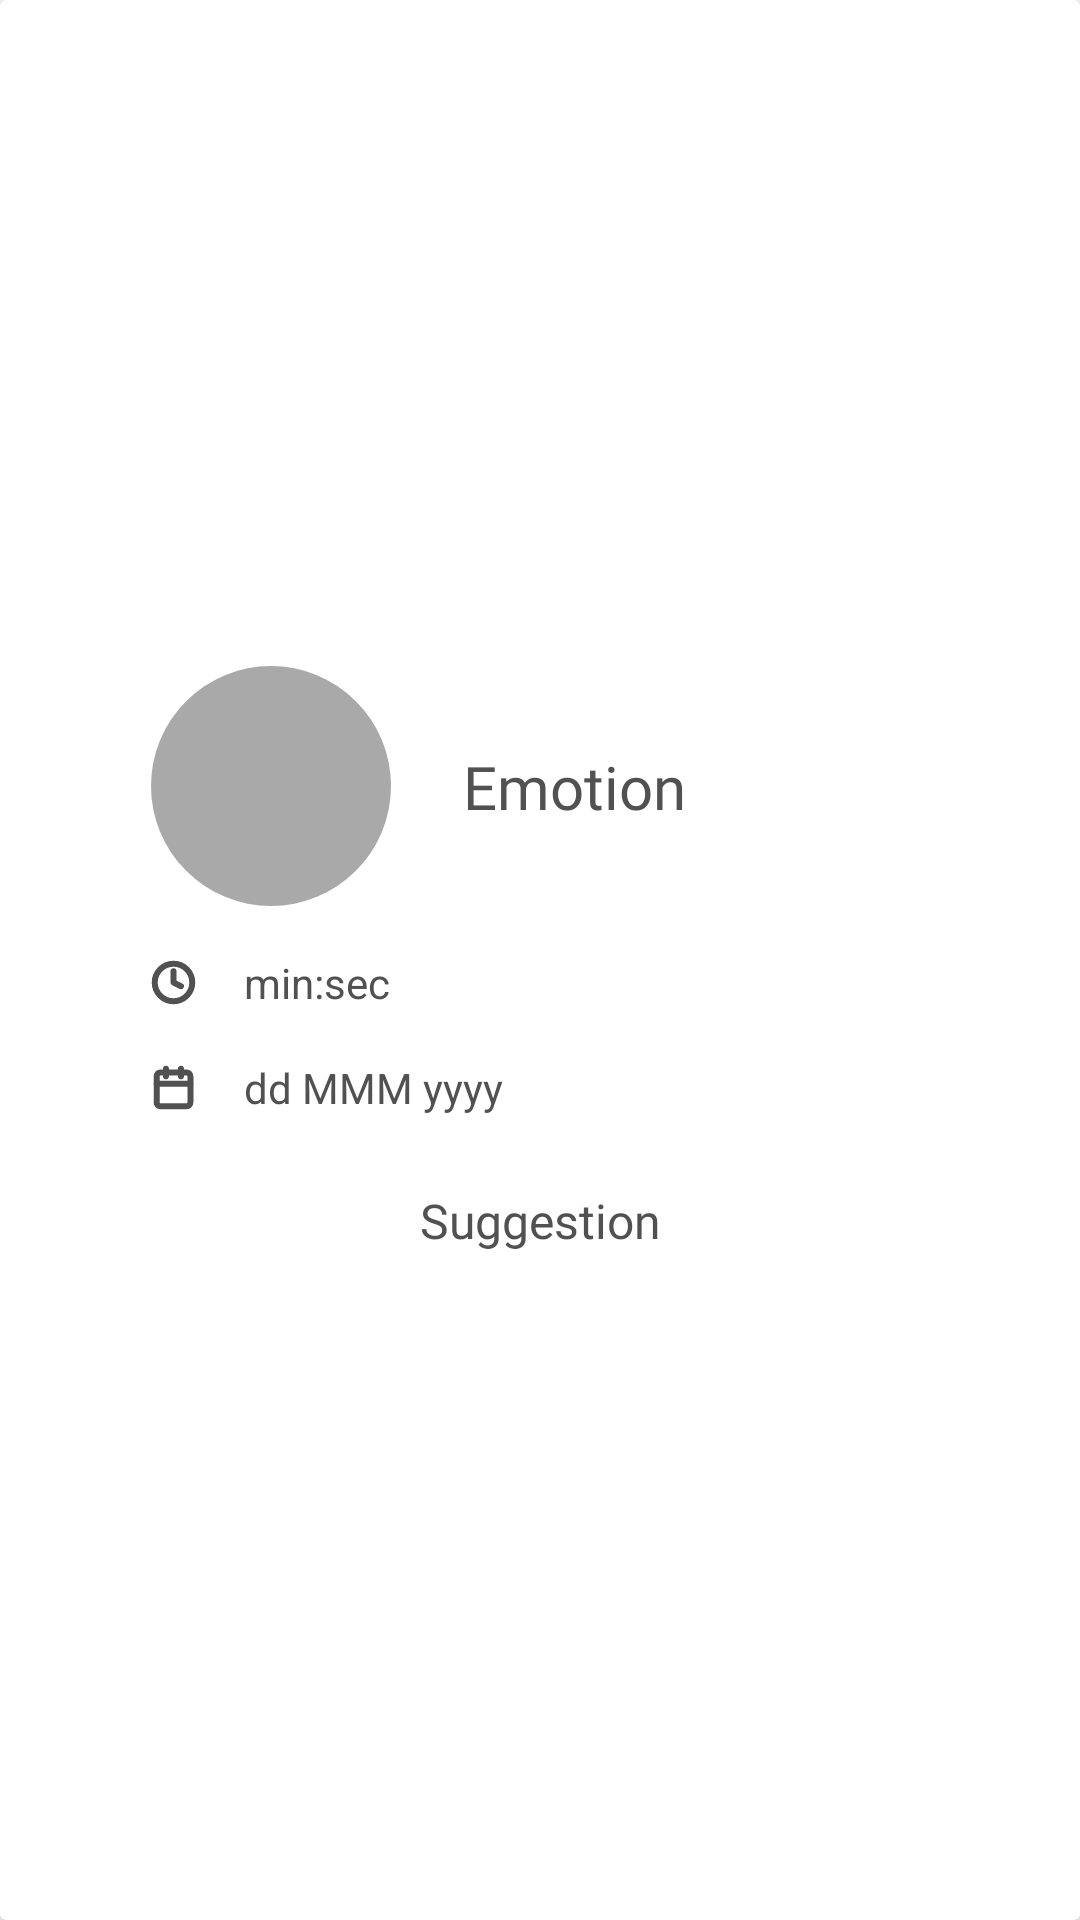

Icons on this 1080px×1920px Android screen, each with the point to tap as [x,y]:
Duration of recording: [173,982]
Recording date taken: [173,1087]
